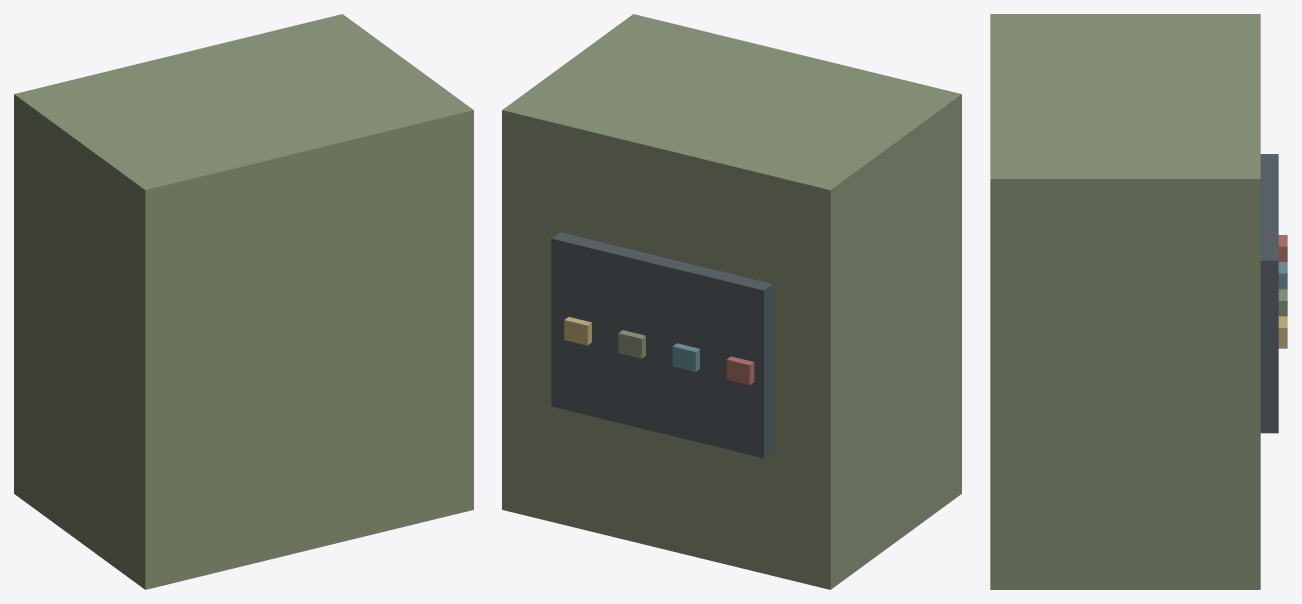
File: iz2_power_wind_micro.glb
The picture shows the model from 3 angles, left to right: view 1: azimuth 30°, elevation 25°; view 2: azimuth 150°, elevation 25°; view 3: azimuth 270°, elevation 25°; orthographic projection. The views are drawn at different scales.
Parts seen in each view (by area): view 1: body; view 2: body; view 3: body.
Part boxes in pixels (bbox=[...]): body: bbox=[14, 14, 473, 589]; body: bbox=[502, 14, 961, 589]; body: bbox=[990, 14, 1287, 589].
Size of the model in its own units: 0.8598 by 1 by 0.6551.
